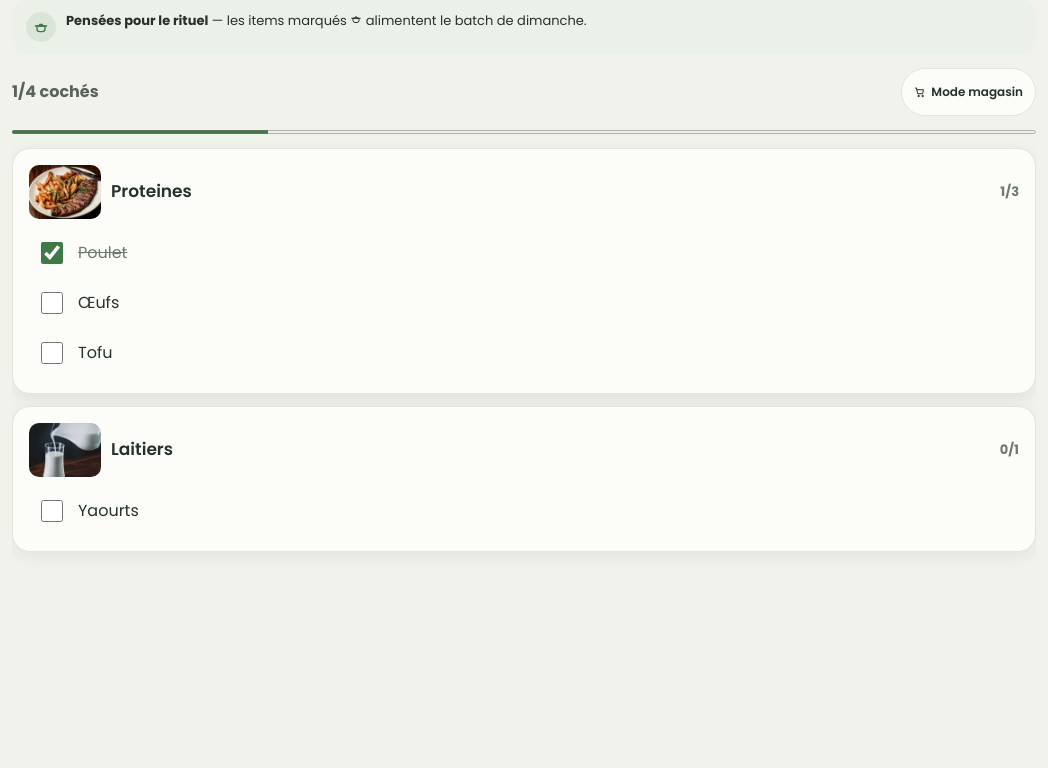
Test: ShoppingList › does not resurrect stale checks from another group after unchecking
The image size is (1048, 768).
Expected: the text "1/4 cochés" is shown, [12, 68, 1036, 136]
Click the checkbox labelled "Poulet" at (52, 253), box [41, 242, 63, 264]
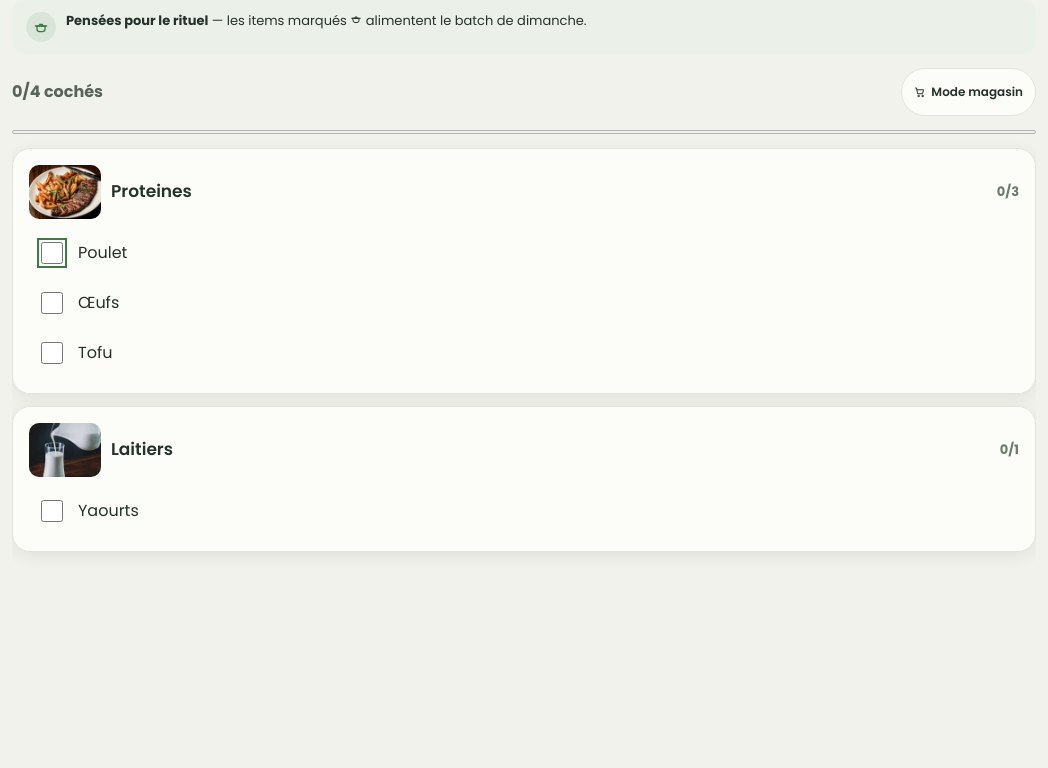
Expected: the text "0/4 cochés" is shown, [12, 68, 1036, 136]
Click the checkbox labelled "Yaourts" at (52, 511), box [41, 500, 63, 522]
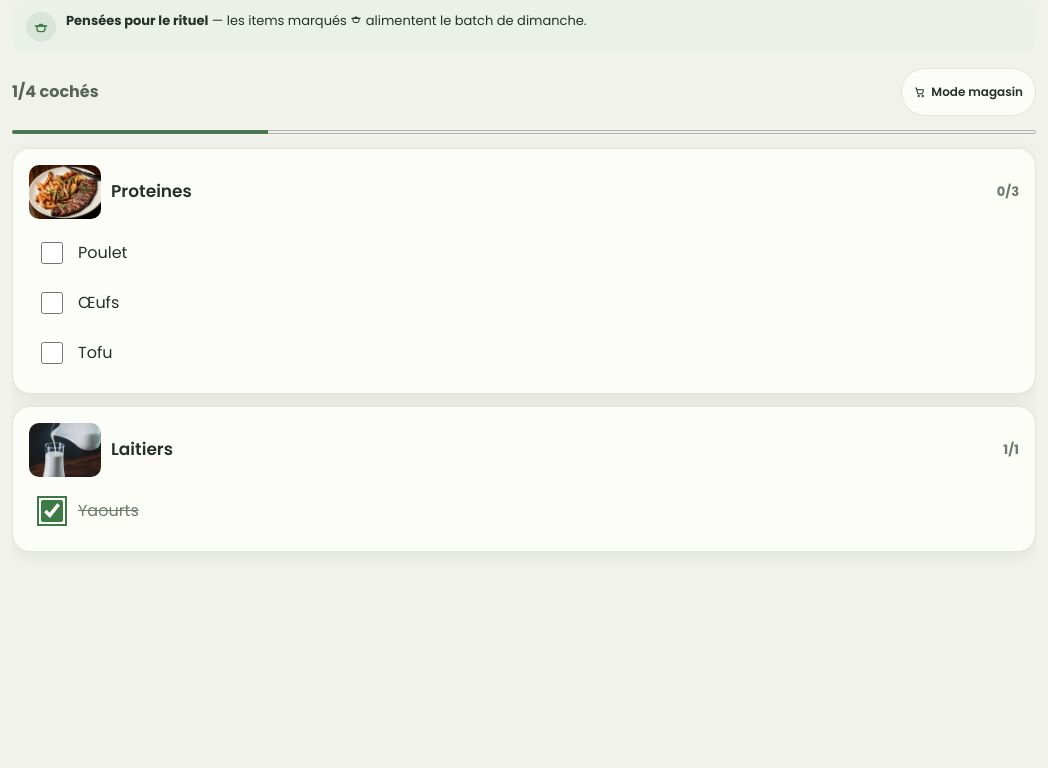
Expected: the text "1/4 cochés" is shown, [12, 68, 1036, 136]
